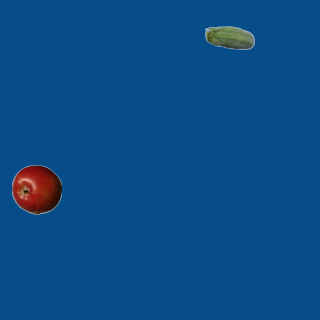Apple Braeburn: (11, 164, 61, 214)
Corn Husk: (204, 14, 254, 64)
